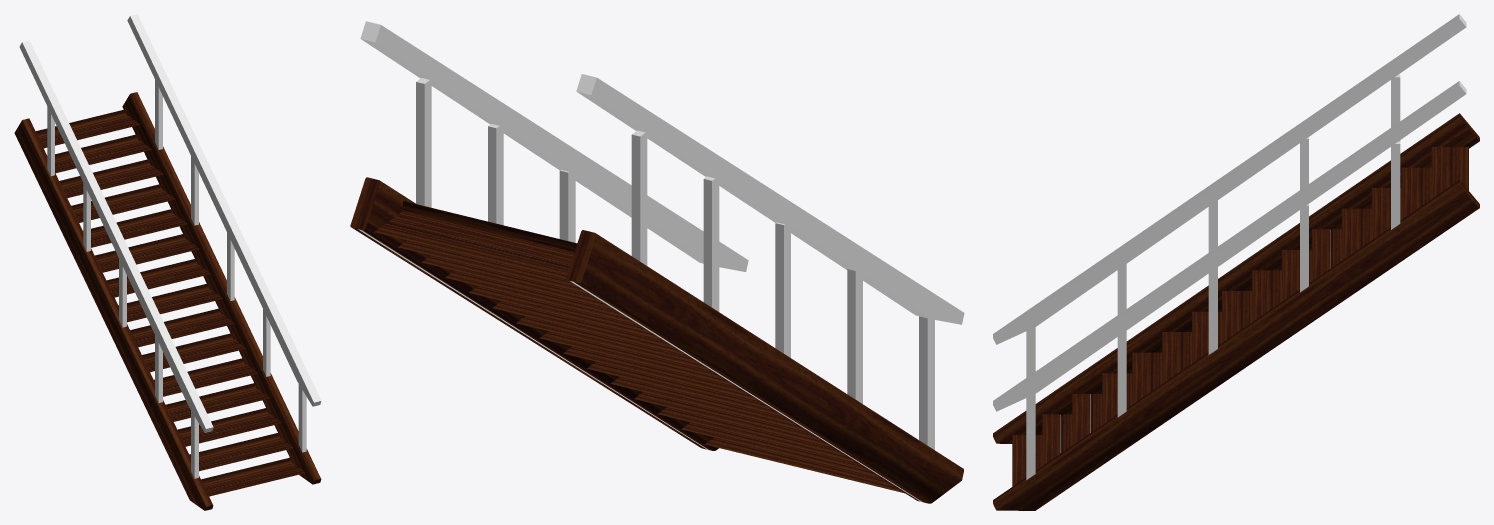
The model's file is staircase.glb.
3 views of the same model, side by side, from view 1: azimuth 30°, elevation 25°; view 2: azimuth 150°, elevation 25°; view 3: azimuth 270°, elevation 25° (orthographic). The views are drawn at different scales.
Visible parts, largest first — view 1: Steps, Cube.001, Cube.002, Cube.003; view 2: Cube.001, Steps, Cube.002, Cube.003; view 3: Cube.001, Cube.002, Steps, Cube.003.
Boxes of the visible parts, <box> form: Steps: <box>35,109,305,496</box>; Cube.001: <box>14,92,321,510</box>; Cube.002: <box>19,14,321,432</box>; Cube.003: <box>47,80,306,478</box>; Cube.001: <box>350,177,963,503</box>; Steps: <box>374,201,904,493</box>; Cube.002: <box>360,21,964,324</box>; Cube.003: <box>416,78,934,449</box>; Cube.001: <box>993,113,1479,510</box>; Cube.002: <box>993,14,1466,411</box>; Steps: <box>1012,146,1468,486</box>; Cube.003: <box>1026,74,1400,479</box>.
Size of the model in its own units: 2.26 by 6.29 by 6.52.
1 material, 1 textured.
